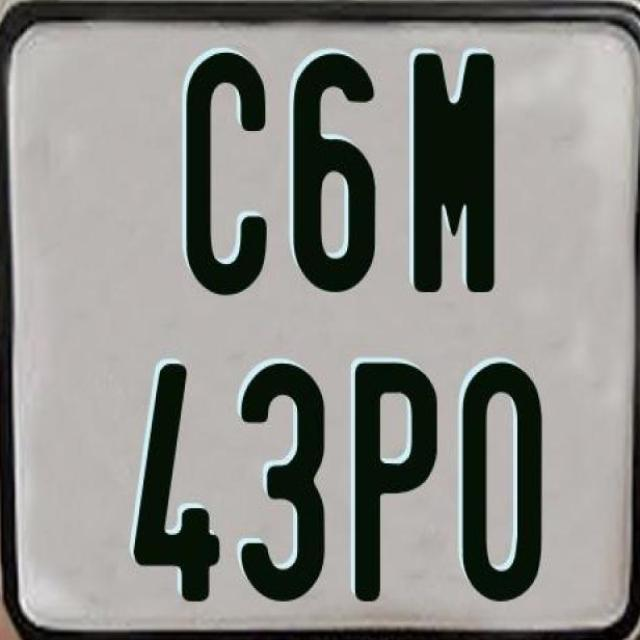license-plate: (8, 8, 632, 640)
